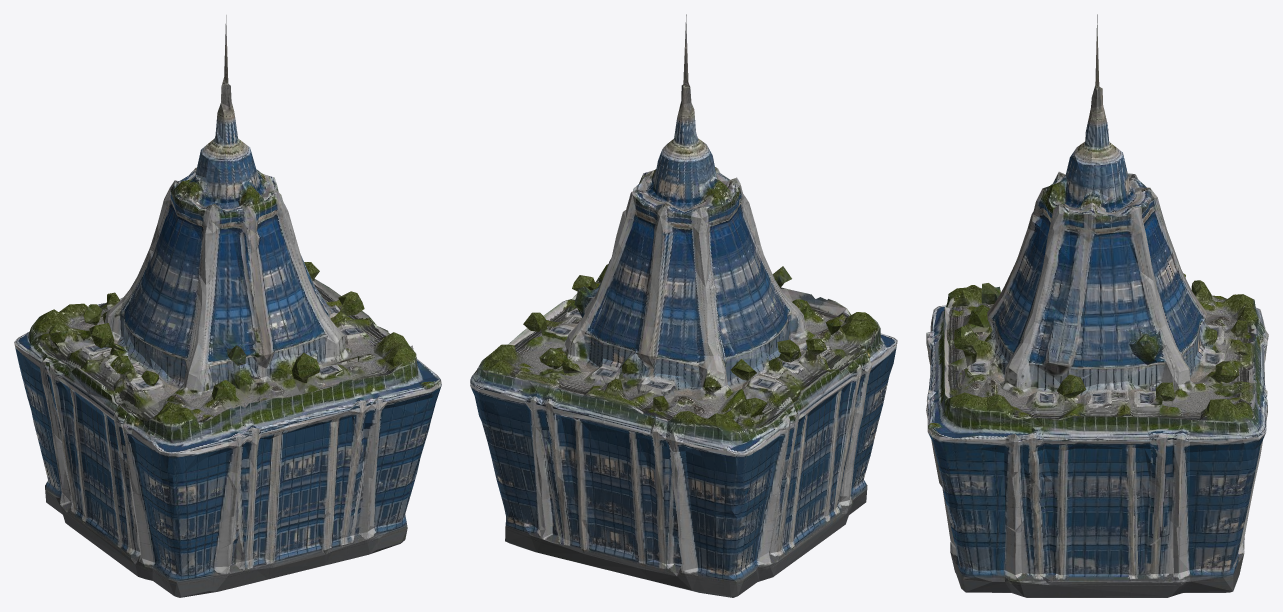
Rendered from kit2-roof.glb.
3 renders of one model, left to right at view 1: azimuth 30°, elevation 25°; view 2: azimuth 150°, elevation 25°; view 3: azimuth 270°, elevation 25°, orthographic. The views are drawn at different scales.
Parts seen in each view (by area): view 1: Mesh_0.001; view 2: Mesh_0.001; view 3: Mesh_0.001.
Boxes of the visible parts, left/top/right/bottom form: Mesh_0.001: left=14, top=15, right=441, bottom=597; Mesh_0.001: left=470, top=14, right=897, bottom=597; Mesh_0.001: left=926, top=14, right=1268, bottom=597.
Size of the model in its own units: 0.5088 by 0.8496 by 0.5044.
Materials: 1 (1 with a texture image).
